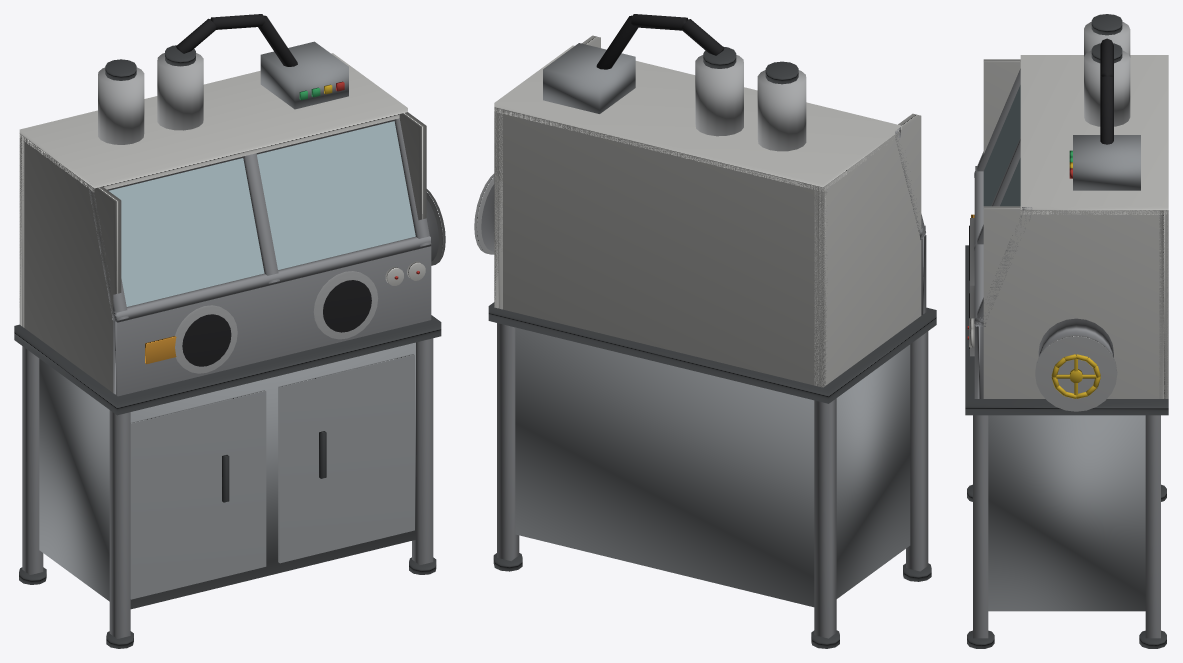
File: sample_glovebox.glb
The picture shows the model from 3 angles, left to right: view 1: azimuth 30°, elevation 25°; view 2: azimuth 150°, elevation 25°; view 3: azimuth 270°, elevation 25°; orthographic projection. The views are drawn at different scales.
Visible parts, largest first — view 1: sample_glovebox, sample_glovebox_glass; view 2: sample_glovebox; view 3: sample_glovebox, sample_glovebox_glass.
Boxes of the visible parts, bbox=[...] form: sample_glovebox: bbox=[14, 14, 445, 648]; sample_glovebox_glass: bbox=[108, 121, 415, 306]; sample_glovebox: bbox=[474, 14, 936, 648]; sample_glovebox: bbox=[965, 14, 1168, 648]; sample_glovebox_glass: bbox=[983, 85, 1020, 206].
Bounding box in the file's own units: 1.37 × 1.91 × 0.66.
